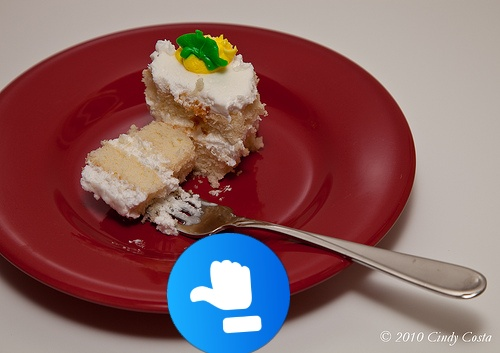like: (167, 233, 290, 353)
